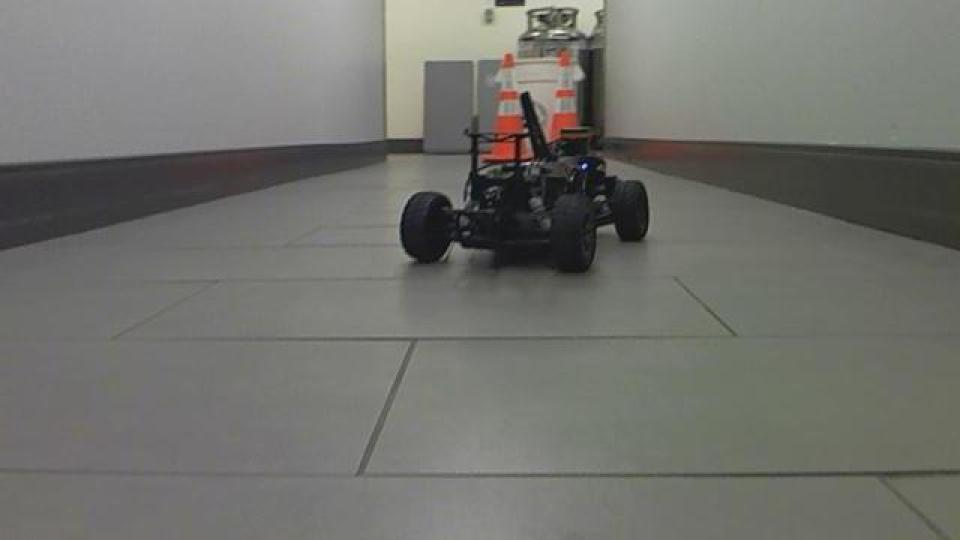car: (394, 88, 652, 276)
